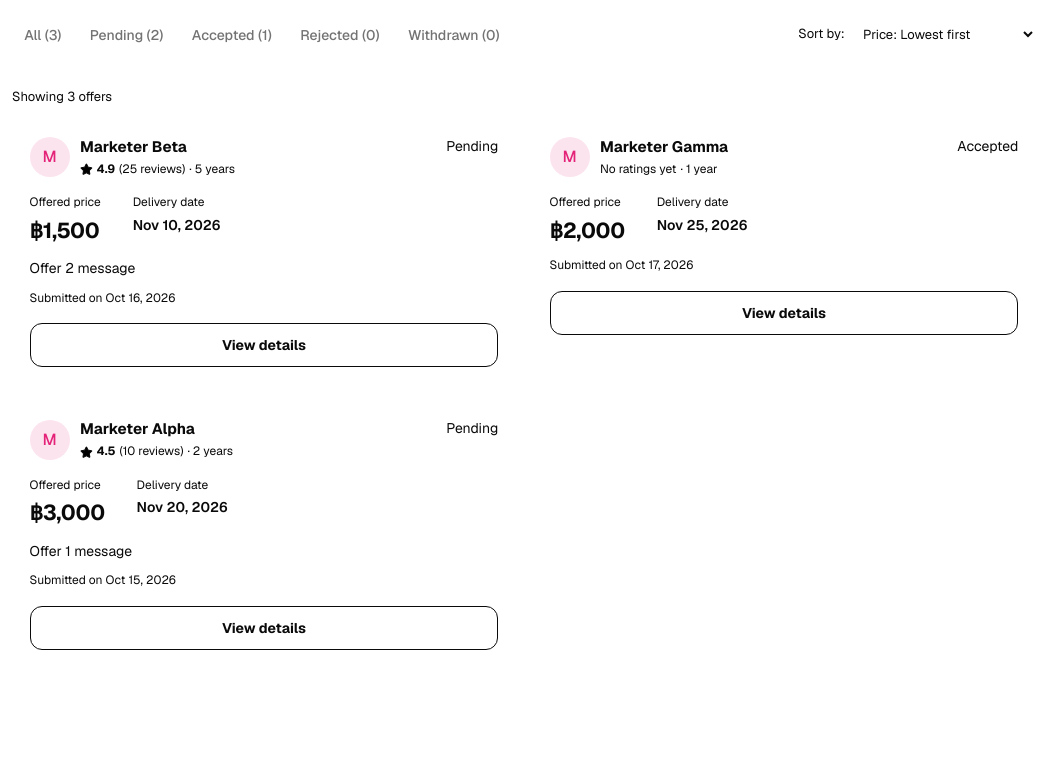
Test: JobOffersCompare › shows empty state when no offers match status filter and allows resetting
The width and height of the screenshot is (1048, 780).
// Click Rejected tab (0 count)
Click the tab "Rejected (0)": [340, 35] box [288, 13, 392, 57]
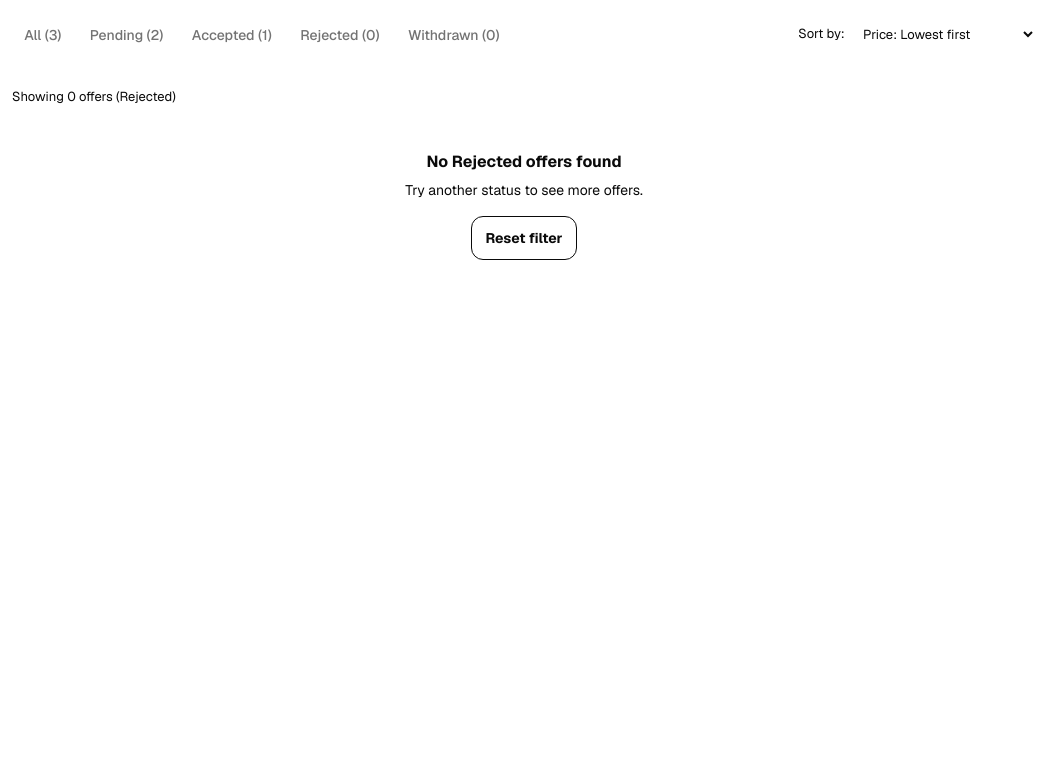
expect the heading "No Rejected offers found" is shown: met, box [426, 151, 622, 172]
// Reset filter
Click the button "Reset filter": [524, 238] box [471, 216, 577, 260]
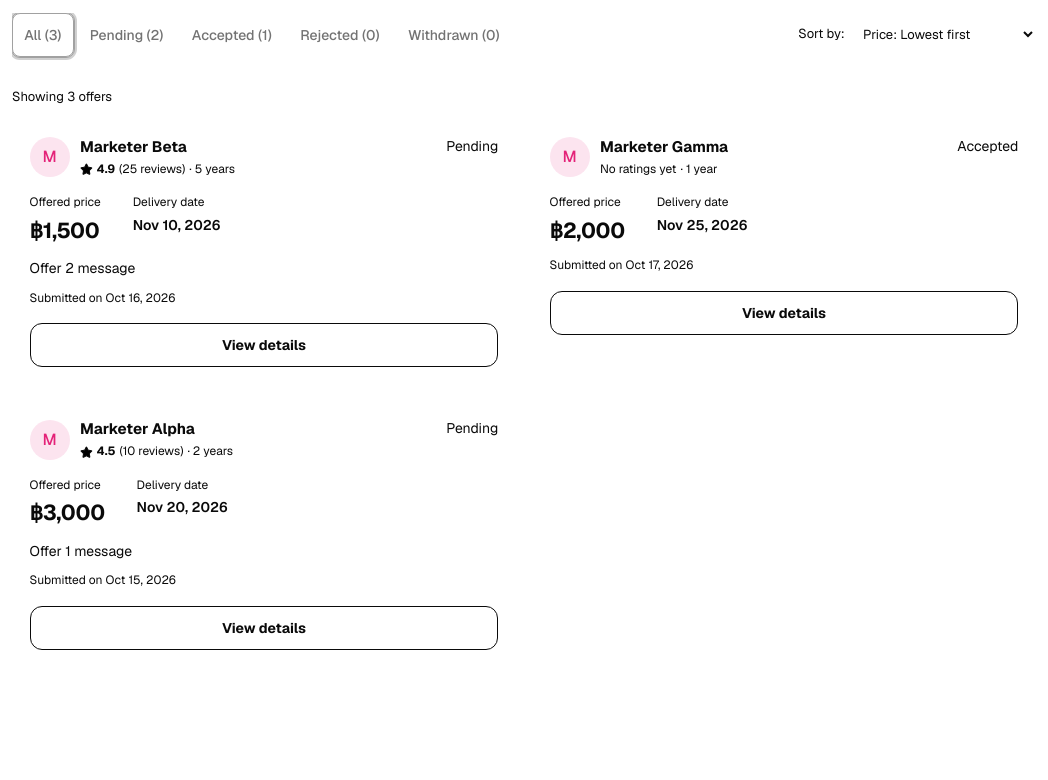
expect the text "Showing 3 offers" is shown: met, box [12, 88, 112, 105]
